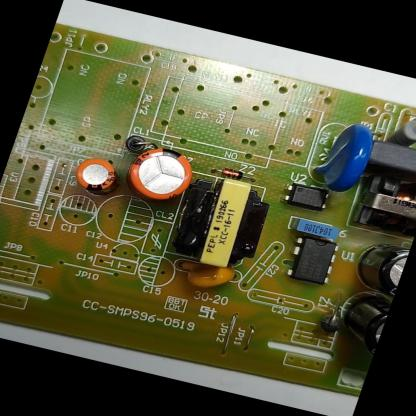Cap1: (119, 140, 201, 206)
Cap2: (71, 153, 121, 194)
Cap3: (347, 236, 410, 300)
Cap4: (330, 289, 392, 358)
MOSFET: (283, 233, 342, 286)
Mov: (309, 116, 380, 196)
Resistor: (385, 113, 415, 150)
Transformer: (165, 169, 279, 274), (350, 169, 416, 240)
